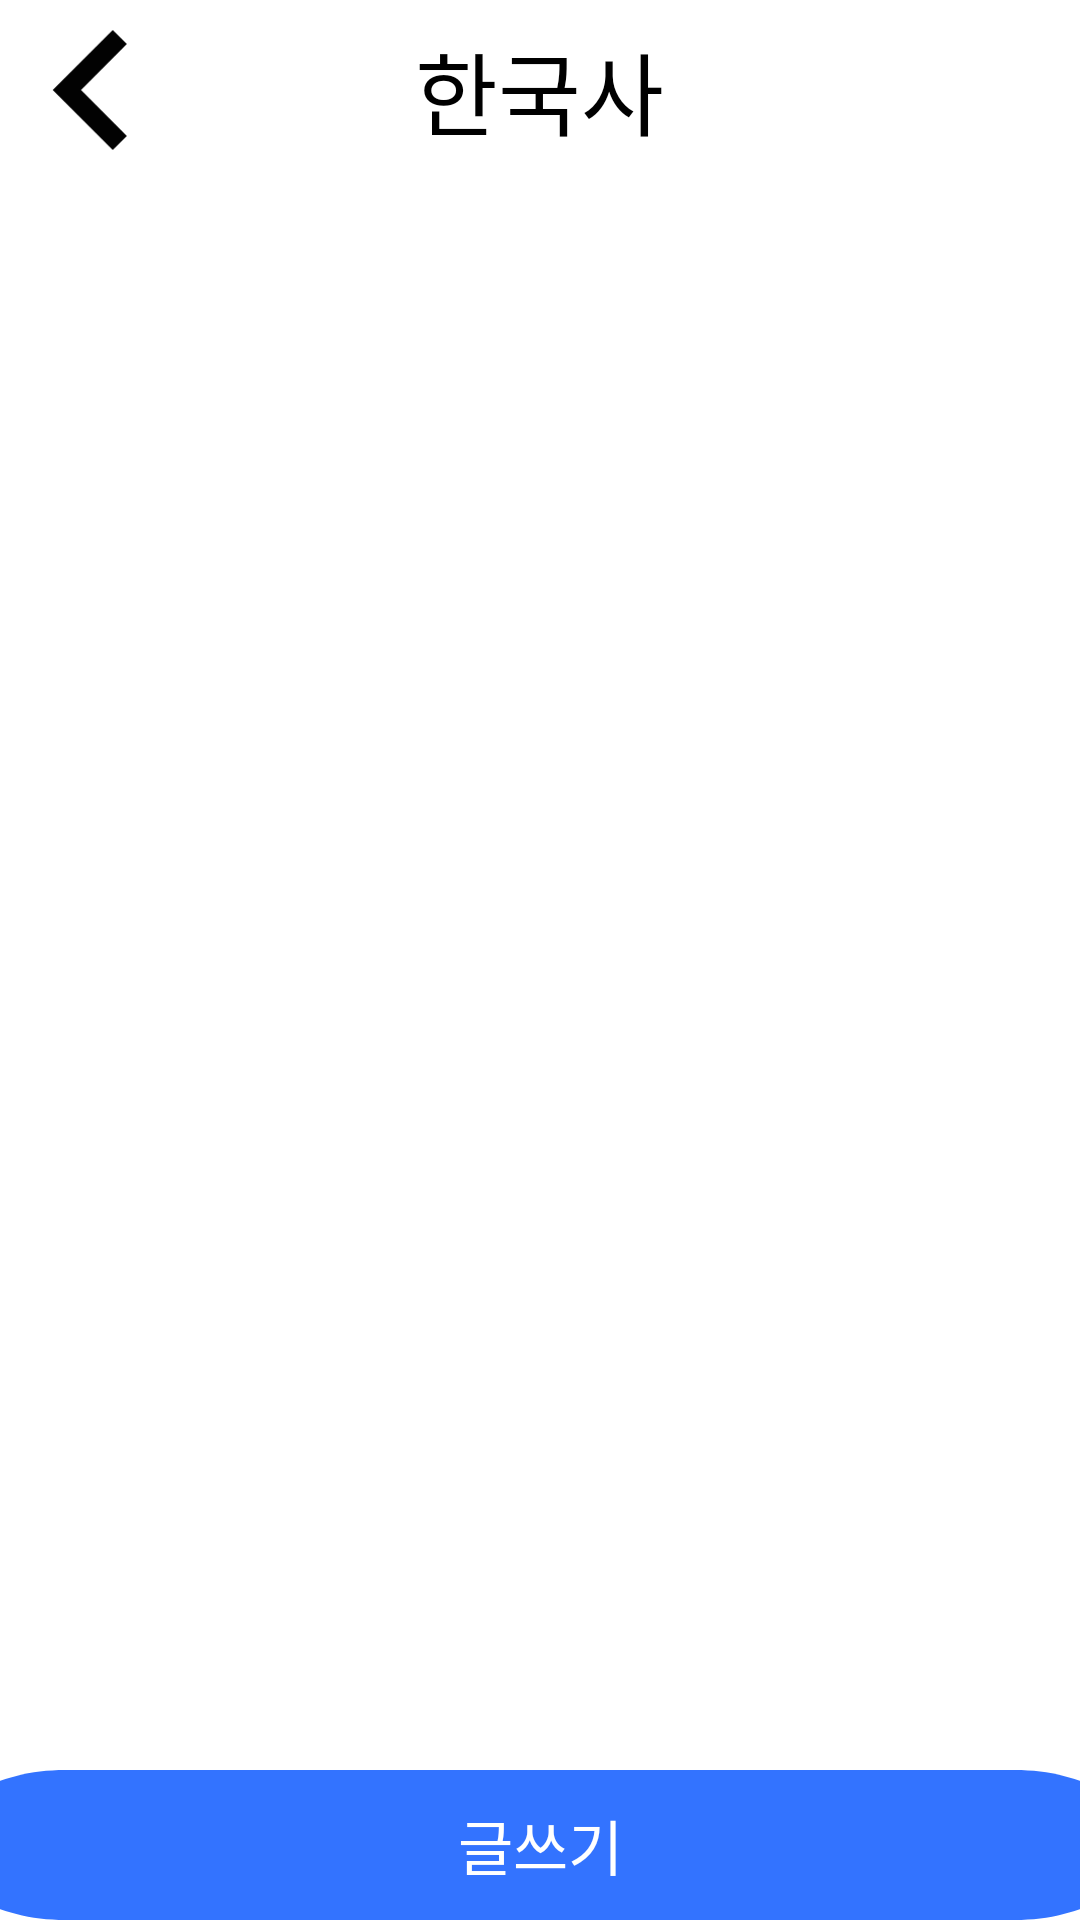

Where to tap for icons on this 1080w x 1920h app screen, as [x,y]:
back: [90,90]
